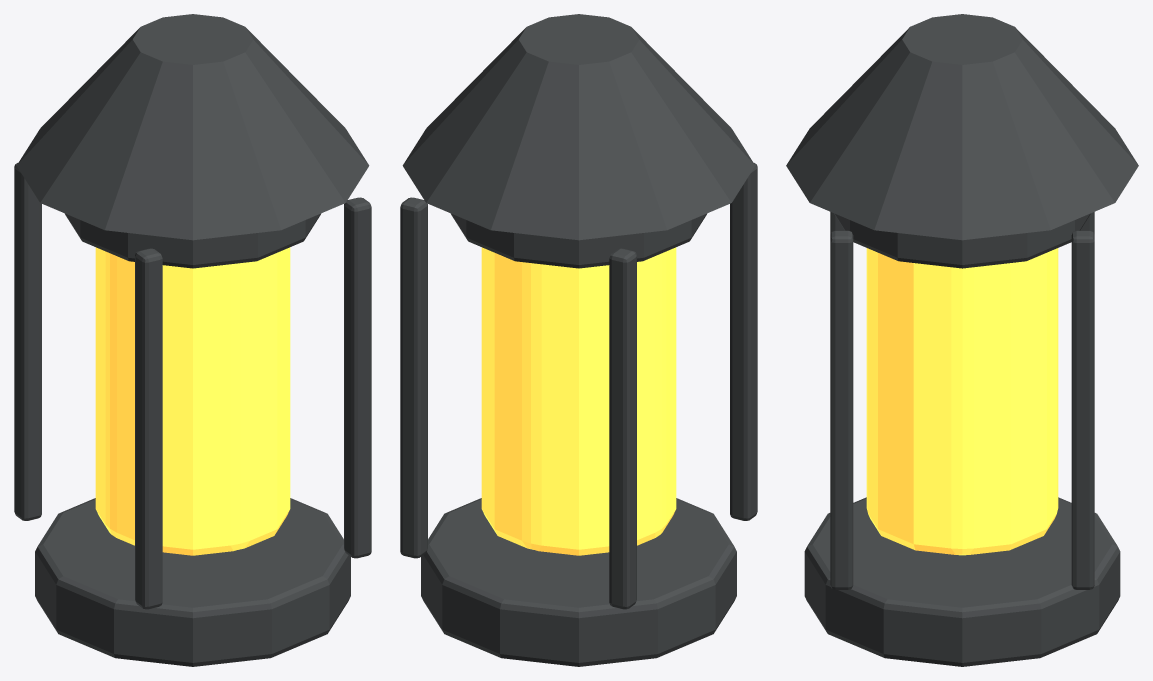
The model's file is lantern_iron_0p7.glb.
3 views of the same model, side by side, from view 1: azimuth 30°, elevation 25°; view 2: azimuth 150°, elevation 25°; view 3: azimuth 270°, elevation 25° (orthographic).
Parts seen in each view (by area): view 1: lantern_roof, lantern_glow, lantern_base, lantern_cage_-0.13_-0.13, lantern_cage_+0.13_-0.13, lantern_cage_-0.13_+0.13, lantern_cap; view 2: lantern_roof, lantern_glow, lantern_base, lantern_cage_-0.13_+0.13, lantern_cage_+0.13_+0.13, lantern_cage_-0.13_-0.13, lantern_cap; view 3: lantern_glow, lantern_roof, lantern_base, lantern_cage_+0.13_-0.13, lantern_cage_+0.13_+0.13, lantern_cap.
Boxes of the visible parts, x1=… form: lantern_roof: x1=16, y1=14, x2=369, y2=240; lantern_glow: x1=95, y1=247, x2=290, y2=555; lantern_base: x1=35, y1=498, x2=350, y2=666; lantern_cage_-0.13_-0.13: x1=135, y1=248, x2=162, y2=609; lantern_cage_+0.13_-0.13: x1=344, y1=197, x2=371, y2=558; lantern_cage_-0.13_+0.13: x1=14, y1=163, x2=41, y2=520; lantern_cap: x1=64, y1=213, x2=321, y2=268; lantern_roof: x1=402, y1=14, x2=755, y2=240; lantern_glow: x1=481, y1=247, x2=676, y2=555; lantern_base: x1=421, y1=498, x2=736, y2=666; lantern_cage_-0.13_+0.13: x1=609, y1=248, x2=636, y2=609; lantern_cage_+0.13_+0.13: x1=400, y1=197, x2=427, y2=558; lantern_cage_-0.13_-0.13: x1=730, y1=163, x2=757, y2=520; lantern_cap: x1=450, y1=213, x2=707, y2=268; lantern_glow: x1=866, y1=248, x2=1058, y2=555; lantern_roof: x1=786, y1=14, x2=1138, y2=240; lantern_base: x1=804, y1=497, x2=1120, y2=666; lantern_cage_+0.13_-0.13: x1=830, y1=230, x2=853, y2=589; lantern_cage_+0.13_+0.13: x1=1071, y1=230, x2=1094, y2=589; lantern_cap: x1=834, y1=213, x2=1090, y2=268.
Size of the model in its own units: 0.38 by 0.67 by 0.38.
